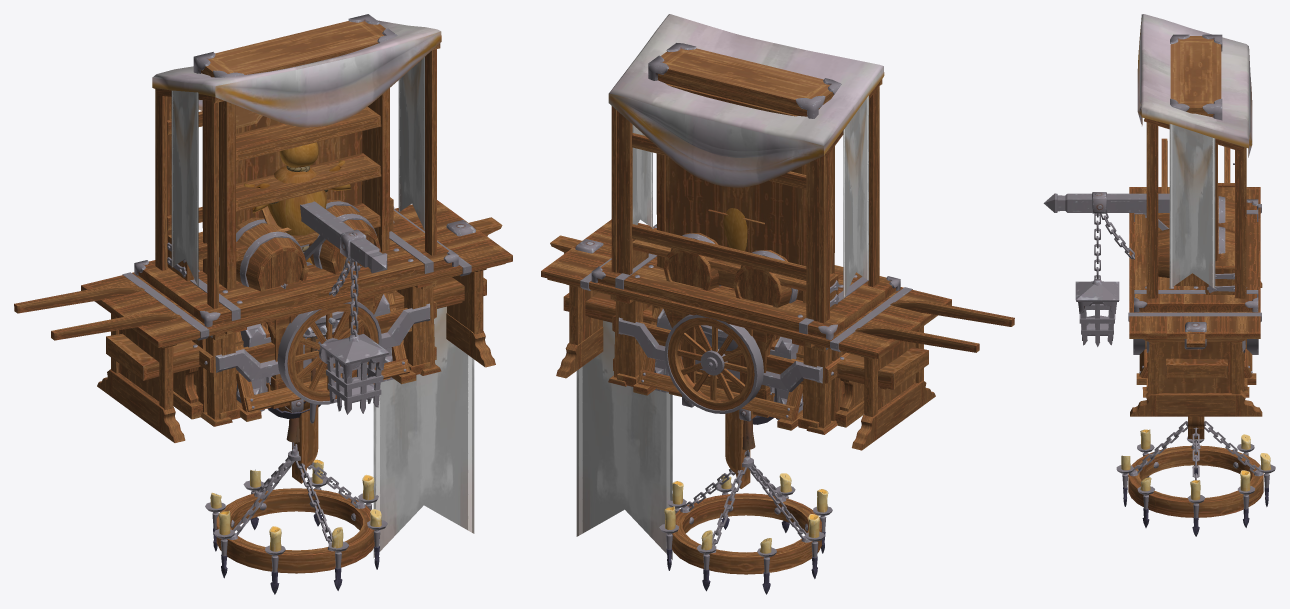
File: objets.gltf
3 views of the same model, side by side, from view 1: azimuth 30°, elevation 25°; view 2: azimuth 150°, elevation 25°; view 3: azimuth 270°, elevation 25° (orthographic). The views are drawn at different scales.
Parts seen in each view (by area): view 1: Stall_Cart_Empty, Bookcase_2, Stall_Empty, Banner_1, Table_Large, Workbench, Chandelier, Lantern_Wall, Barrel_Holder, Bench, Dummy, WeaponStand (+3 smaller); view 2: Stall_Empty, Stall_Cart_Empty, Bookcase_2, Banner_1, Table_Large, Workbench, Chandelier, Bench, Barrel_Holder, Banner_2, WeaponStand, Crate_Wooden (+2 smaller); view 3: Stall_Empty, Table_Large, Chandelier, Stall_Cart_Empty, Lantern_Wall, Workbench, Bookcase_2, Barrel_Holder, Bench, Banner_1, WeaponStand.
Boxes of the visible parts, x1,y1,x2,y2 form: Stall_Cart_Empty: (14,27,441,412); Bookcase_2: (193,14,397,391); Stall_Empty: (152,20,441,426); Banner_1: (292,217,502,557); Table_Large: (81,200,512,442); Workbench: (134,210,458,419); Chandelier: (205,442,387,594); Lantern_Wall: (300,201,389,414); Barrel_Holder: (236,199,394,301); Bench: (106,277,486,419); Dummy: (244,142,351,264); WeaponStand: (219,257,416,421); Stall_Empty: (608,29,883,434); Stall_Cart_Empty: (609,14,1014,421); Bookcase_2: (648,43,841,401); Banner_1: (550,235,750,559); Table_Large: (541,219,951,450); Workbench: (591,224,900,429); Chandelier: (659,450,832,594); Bench: (563,292,928,427); Barrel_Holder: (652,233,799,315); Banner_2: (577,321,672,508); WeaponStand: (633,307,803,430); Crate_Wooden: (669,310,775,421); Stall_Empty: (1141,20,1252,397); Table_Large: (1128,187,1262,416); Chandelier: (1116,421,1275,536); Stall_Cart_Empty: (1133,14,1258,354); Lantern_Wall: (1043,192,1169,346); Workbench: (1134,199,1258,390); Bookcase_2: (1170,34,1222,285); Barrel_Holder: (1158,196,1234,277); Bench: (1166,358,1227,378); Banner_1: (1184,322,1206,438); WeaponStand: (1136,273,1256,384).
Size of the model in its own units: 3.72 by 4.18 by 1.9.
Materials: 8 (8 with a texture image).
